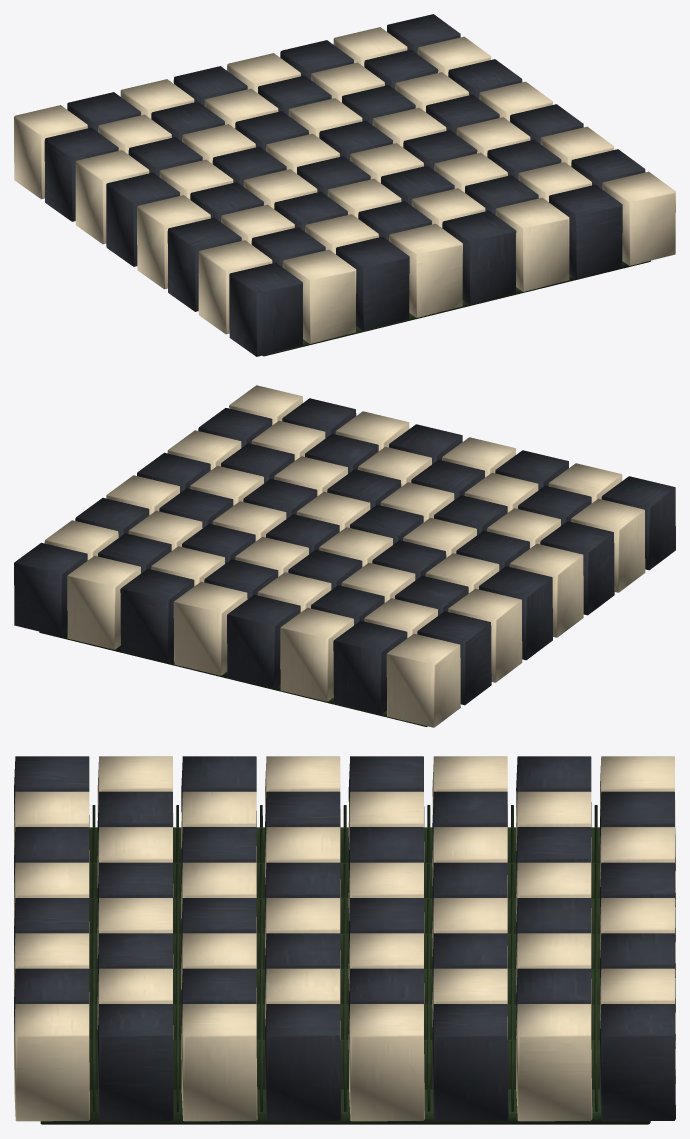
The model's file is gappa_chessboard.glb.
3 views of the same model, one above another, from view 1: azimuth 30°, elevation 25°; view 2: azimuth 150°, elevation 25°; view 3: azimuth 270°, elevation 25° (orthographic). The views are drawn at different scales.
Visible parts, largest first — view 1: square_a1, square_f1, square_d1, square_h1, square_g1, square_c1, square_e1, square_b1, square_a6, square_a2, square_a5, square_a7 (+53 smaller); view 2: square_a8, square_d8, square_h8, square_g8, square_b8, square_c8, square_f8, square_e8, square_a7, square_a3, square_a4, square_a6 (+53 smaller); view 3: square_h6, square_h3, square_h7, square_h4, square_h1, square_h2, square_h5, square_h8, base, square_b8, square_e8, square_f8 (+67 smaller).
Boxes of the visible parts, left/top/right/bottom form: square_a1: left=229, top=262, right=302, bottom=356; square_f1: left=495, top=197, right=569, bottom=291; square_d1: left=389, top=223, right=462, bottom=317; square_h1: left=602, top=171, right=675, bottom=265; square_g1: left=549, top=184, right=622, bottom=278; square_c1: left=336, top=236, right=409, bottom=330; square_e1: left=442, top=210, right=516, bottom=304; square_b1: left=282, top=249, right=356, bottom=343; square_a6: left=75, top=150, right=149, bottom=244; square_a2: left=198, top=240, right=272, bottom=334; square_a5: left=106, top=172, right=179, bottom=266; square_a7: left=44, top=127, right=118, bottom=221; square_a8: left=386, top=633, right=460, bottom=727; square_d8: left=227, top=594, right=300, bottom=688; square_h8: left=14, top=542, right=87, bottom=636; square_g8: left=67, top=555, right=140, bottom=649; square_b8: left=333, top=620, right=407, bottom=714; square_c8: left=280, top=607, right=353, bottom=701; square_f8: left=120, top=569, right=194, bottom=662; square_e8: left=173, top=581, right=247, bottom=675; square_a7: left=417, top=611, right=491, bottom=705; square_a3: left=540, top=521, right=614, bottom=615; square_a4: left=509, top=543, right=583, bottom=637; square_a6: left=448, top=588, right=522, bottom=682; square_h6: left=432, top=1004, right=508, bottom=1121; square_h3: left=181, top=1004, right=257, bottom=1121; square_h7: left=516, top=1004, right=592, bottom=1121; square_h4: left=265, top=1004, right=341, bottom=1121; square_h1: left=14, top=1004, right=89, bottom=1121; square_h2: left=97, top=1004, right=173, bottom=1121; square_h5: left=348, top=1004, right=424, bottom=1121; square_h8: left=600, top=1004, right=675, bottom=1121; base: left=40, top=1089, right=650, bottom=1124; square_b8: left=600, top=791, right=675, bottom=906; square_e8: left=600, top=898, right=675, bottom=1012; square_f8: left=600, top=933, right=675, bottom=1048.
Bounding box in the file's own units: 0.364 × 0.0613 × 0.3639.
Materials: 3 (3 with a texture image).
